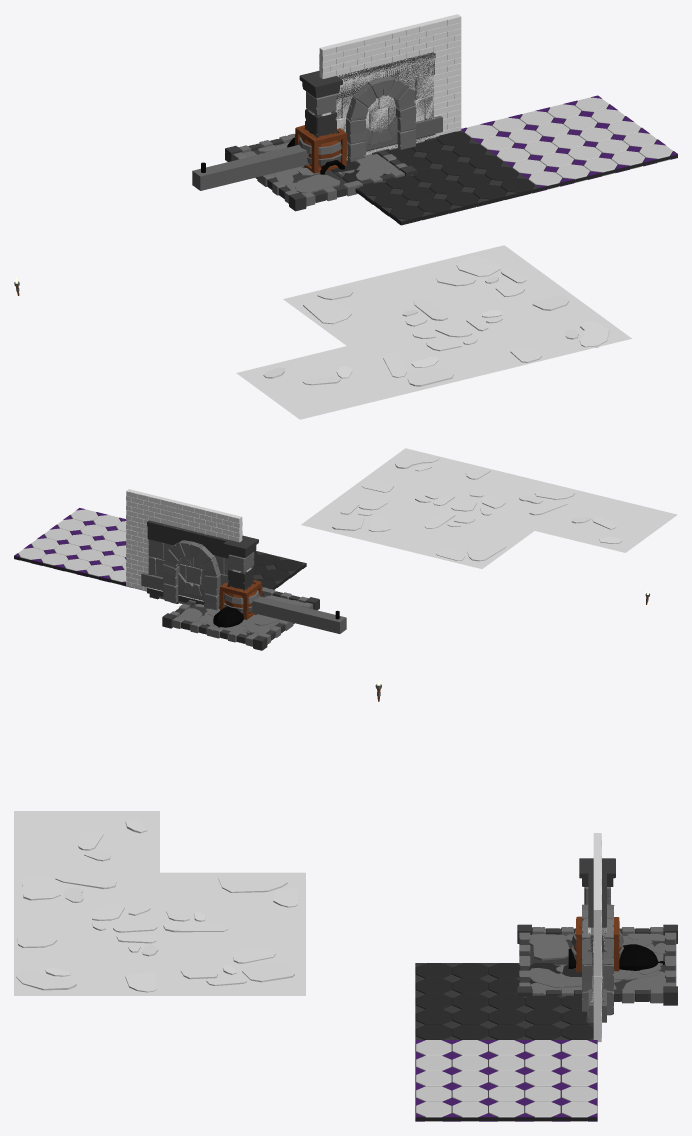
File: N_DungeonGameAssets_1.fbx
3 views of the same model, one above another, from view 1: azimuth 30°, elevation 25°; view 2: azimuth 150°, elevation 25°; view 3: azimuth 270°, elevation 25° (orthographic). The views are drawn at different scales.
Parts seen in each view (by area): view 1: New Floor Fancy, New Floor Dungeon, Plane.010, Doorframe 0, Plane.006, Plane.009, Plane.007, Plane.008, Wall Original, Plane.002, Floor Hole, Spinner 2 (+14 smaller); view 2: New Floor Fancy, Doorframe 0, Plane.010, Plane.006, Plane.009, Plane.007, Plane.008, Floor Hole, Plane.002, Spinner 2, Plane.001, Doorframe 1 (+14 smaller); view 3: New Floor Fancy, New Floor Dungeon, Plane.010, Plane.006, Plane.007, Plane.009, Plane.008, Floor Hole, Doorframe 0, Floortile 5, Floortile 4, Cube.055 (+7 smaller).
Boxes of the visible parts, box(x1,y1,x2,y2) form: New Floor Fancy: box(461, 95, 677, 191); New Floor Dungeon: box(331, 130, 539, 225); Plane.010: box(236, 346, 410, 419); Doorframe 0: box(336, 52, 435, 161); Plane.006: box(394, 245, 567, 318); Plane.009: box(458, 292, 631, 365); Plane.007: box(283, 272, 456, 345); Plane.008: box(347, 319, 520, 392); Wall Original: box(335, 53, 435, 159); Plane.002: box(389, 14, 461, 80); Floor Hole: box(225, 133, 417, 211); Spinner 2: box(192, 145, 309, 190); New Floor Fancy: box(14, 508, 127, 586); Doorframe 0: box(147, 520, 228, 610); Plane.010: box(535, 492, 677, 552); Plane.006: box(301, 486, 443, 546); Plane.009: box(353, 448, 495, 508); Plane.007: box(392, 509, 533, 568); Plane.008: box(444, 470, 586, 530); Floor Hole: box(162, 587, 319, 650); Plane.002: box(126, 489, 184, 543); Spinner 2: box(251, 596, 346, 633); Plane.001: box(182, 503, 242, 542); Doorframe 1: box(223, 535, 258, 590); New Floor Fancy: box(415, 1040, 597, 1121); New Floor Dungeon: box(415, 963, 593, 1040); Plane.010: box(14, 811, 159, 872); Plane.006: box(160, 934, 305, 995); Plane.007: box(160, 872, 305, 934); Plane.009: box(14, 934, 159, 995); Plane.008: box(14, 872, 159, 934); Floor Hole: box(517, 924, 677, 1005); Doorframe 0: box(581, 873, 614, 1019); Floortile 5: box(533, 934, 665, 990); Floortile 4: box(529, 933, 665, 987); Cube.055: box(218, 874, 287, 892).
Size of the model in its own units: 2454 by 453 by 1820.
